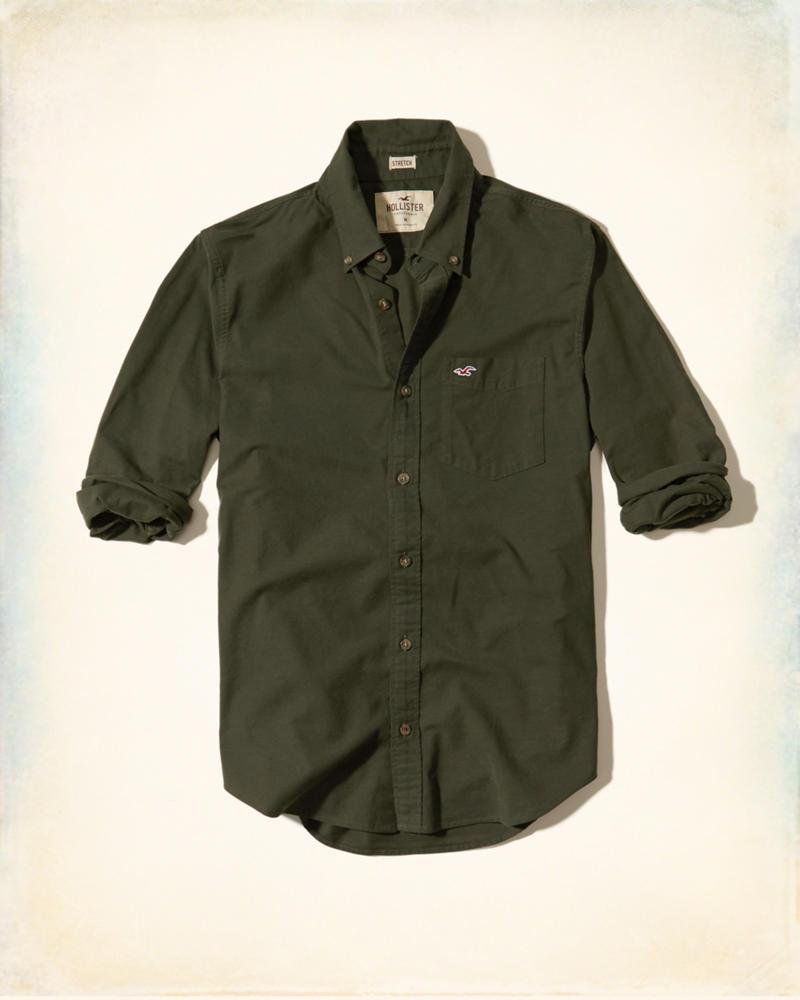teeshirt: (65, 112, 736, 862)
